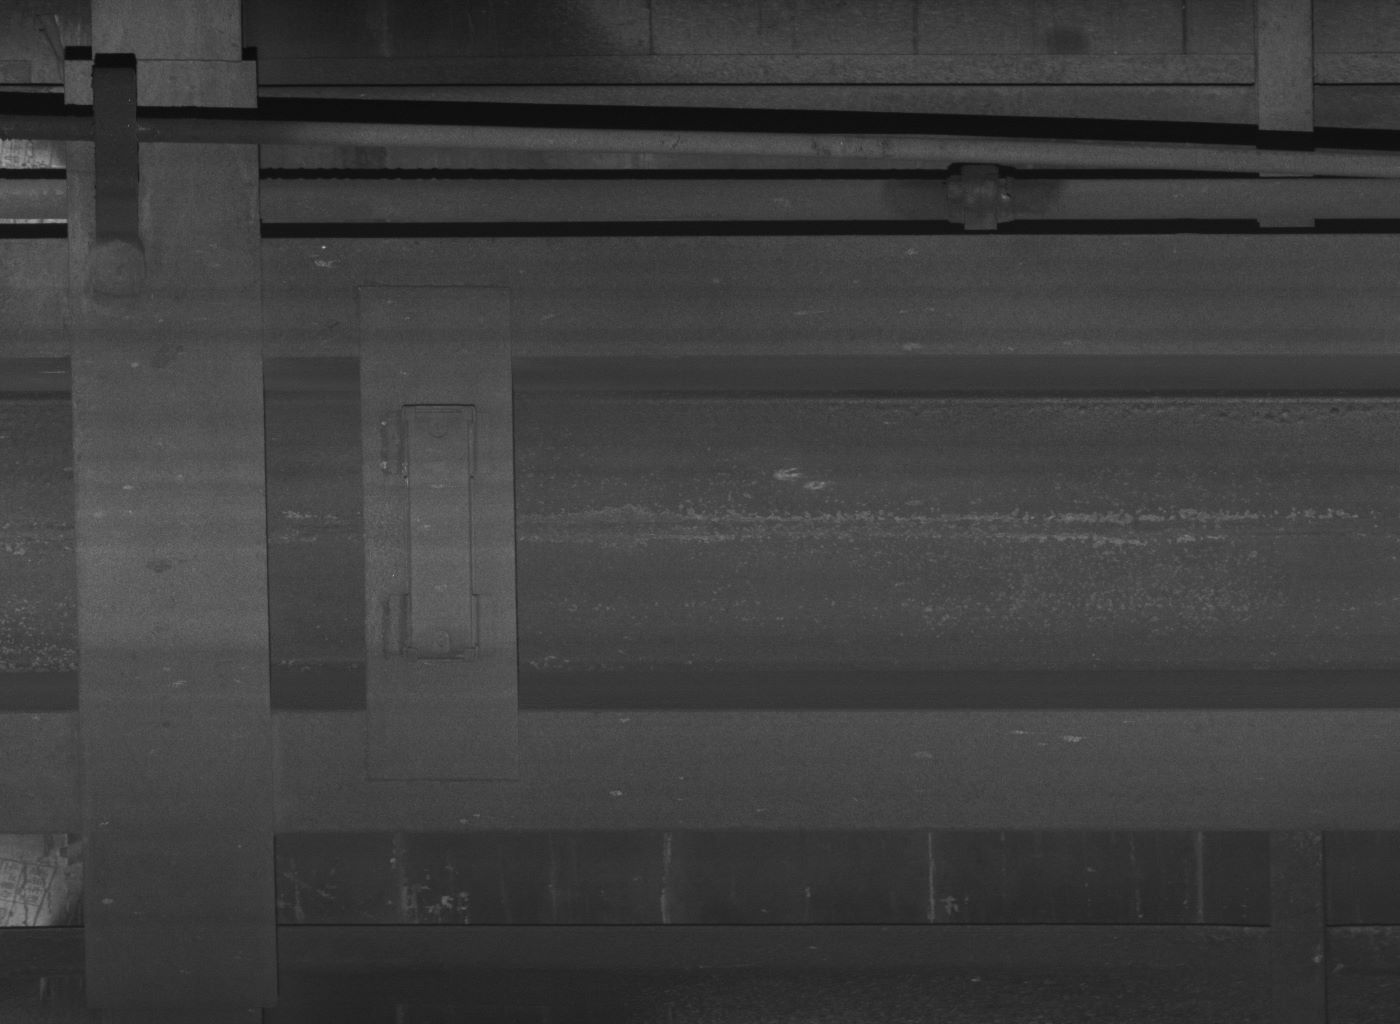normal: (90, 51, 139, 241)
